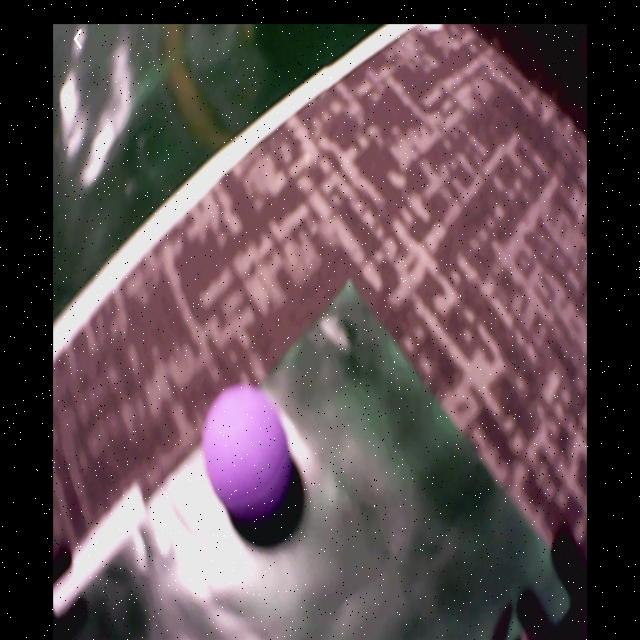ball: (205, 389, 291, 518)
